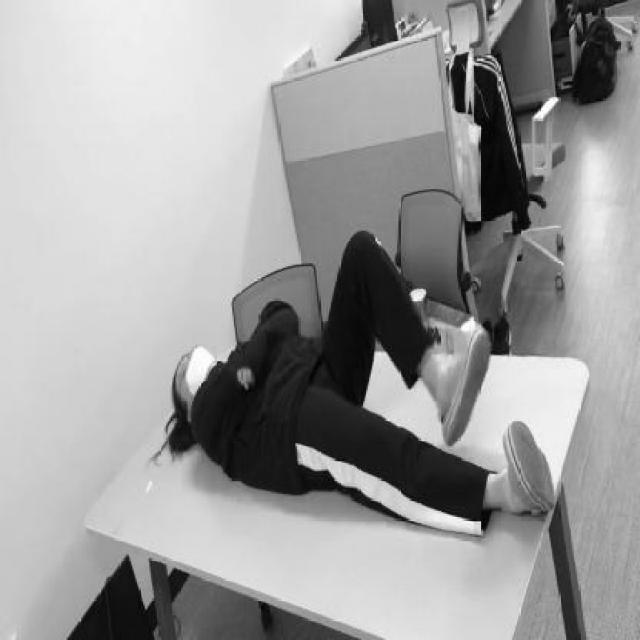person: (168, 231, 554, 538)
